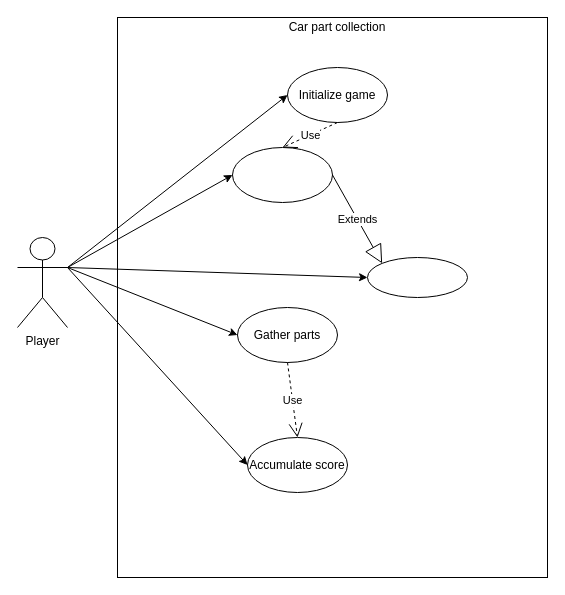
The diagram is 565 pixels wide and 595 high, and some of its shapes have lost their labels. The shapes that lost their labels are listed below. From the top down, each one's centre as x and y in pixels, then its label:
pixel 282 174: Start Game
pixel 417 277: Exit game
